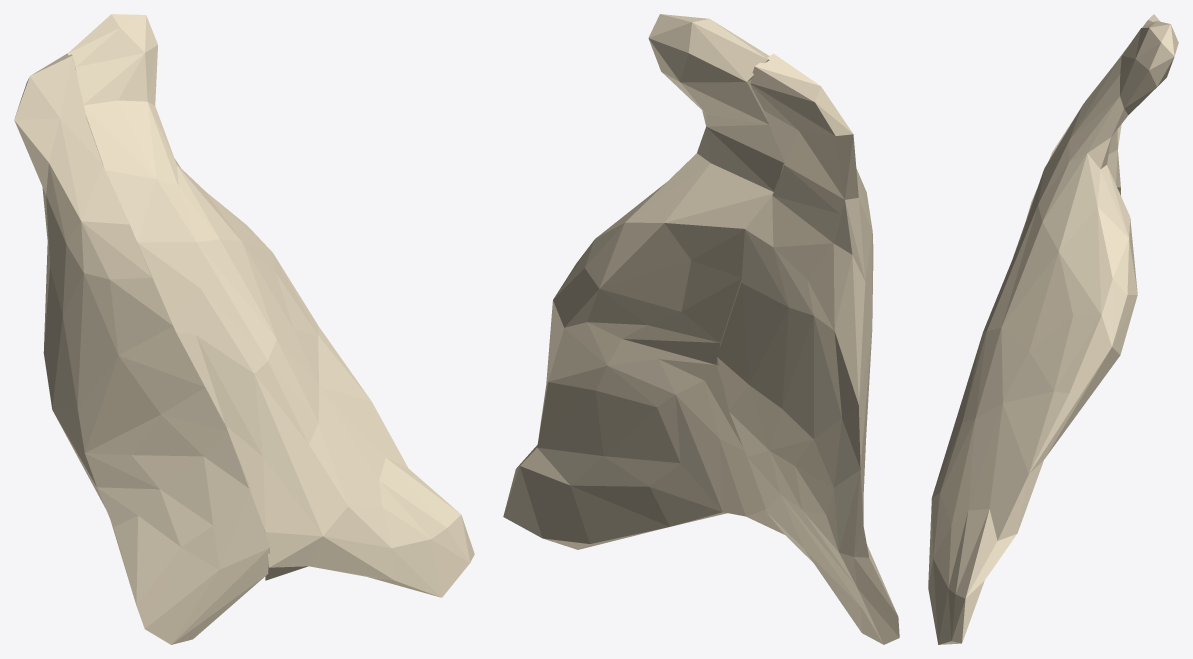
Rendered from VH_F_Thymus_0.1.glb.
3 views of the same model, side by side, from view 1: azimuth 30°, elevation 25°; view 2: azimuth 150°, elevation 25°; view 3: azimuth 270°, elevation 25° (orthographic). The views are drawn at different scales.
Visible parts, largest first — view 1: VH_F_thymus_lobe_L, VH_F_thymus_lobe_R; view 2: VH_F_thymus_lobe_L, VH_F_thymus_lobe_R; view 3: VH_F_thymus_lobe_L, VH_F_thymus_lobe_R.
Part boxes in pixels (bbox=[...]): VH_F_thymus_lobe_L: bbox=[67, 14, 474, 597]; VH_F_thymus_lobe_R: bbox=[14, 53, 270, 644]; VH_F_thymus_lobe_L: bbox=[503, 14, 784, 549]; VH_F_thymus_lobe_R: bbox=[717, 53, 899, 644]; VH_F_thymus_lobe_L: bbox=[928, 21, 1178, 644]; VH_F_thymus_lobe_R: bbox=[1026, 14, 1160, 218].
Bounding box in the file's own units: 0.0876 × 0.1253 × 0.0544.
